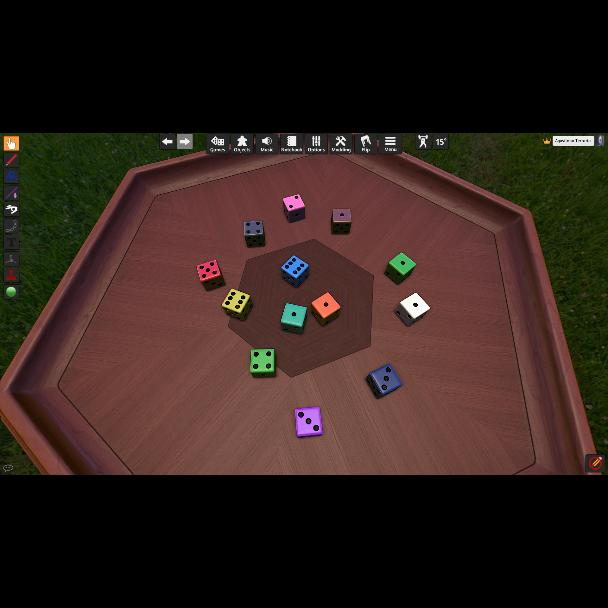d6: (366, 364, 400, 400), (396, 292, 428, 326), (310, 293, 340, 327), (384, 252, 414, 286), (221, 289, 250, 321), (281, 256, 309, 288), (294, 406, 322, 437), (197, 260, 223, 292), (250, 348, 276, 378), (280, 304, 306, 334), (282, 194, 304, 224), (330, 208, 352, 236), (244, 221, 266, 248)
